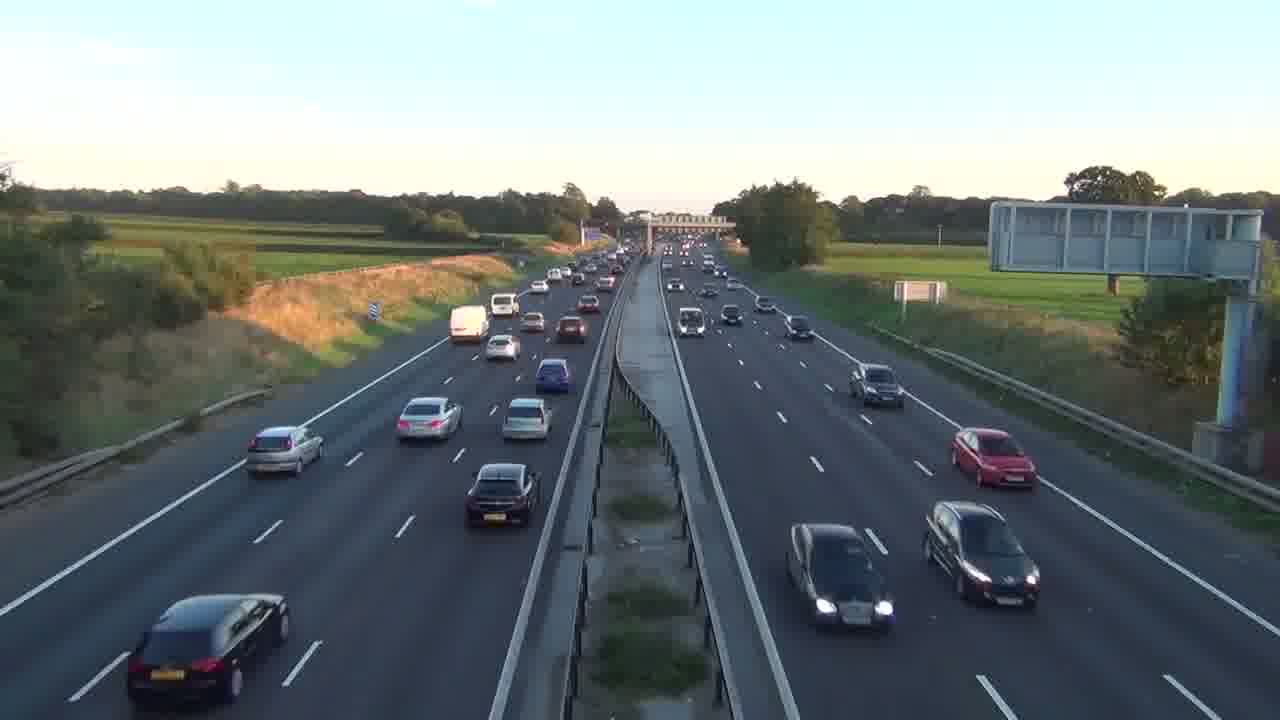car: (126, 592, 292, 708), (921, 499, 1042, 608), (785, 522, 896, 633), (949, 426, 1039, 489), (465, 462, 539, 527), (245, 425, 325, 478), (395, 395, 463, 443), (501, 397, 550, 442), (535, 358, 575, 394), (484, 333, 520, 362)
truck: (448, 305, 489, 344)
